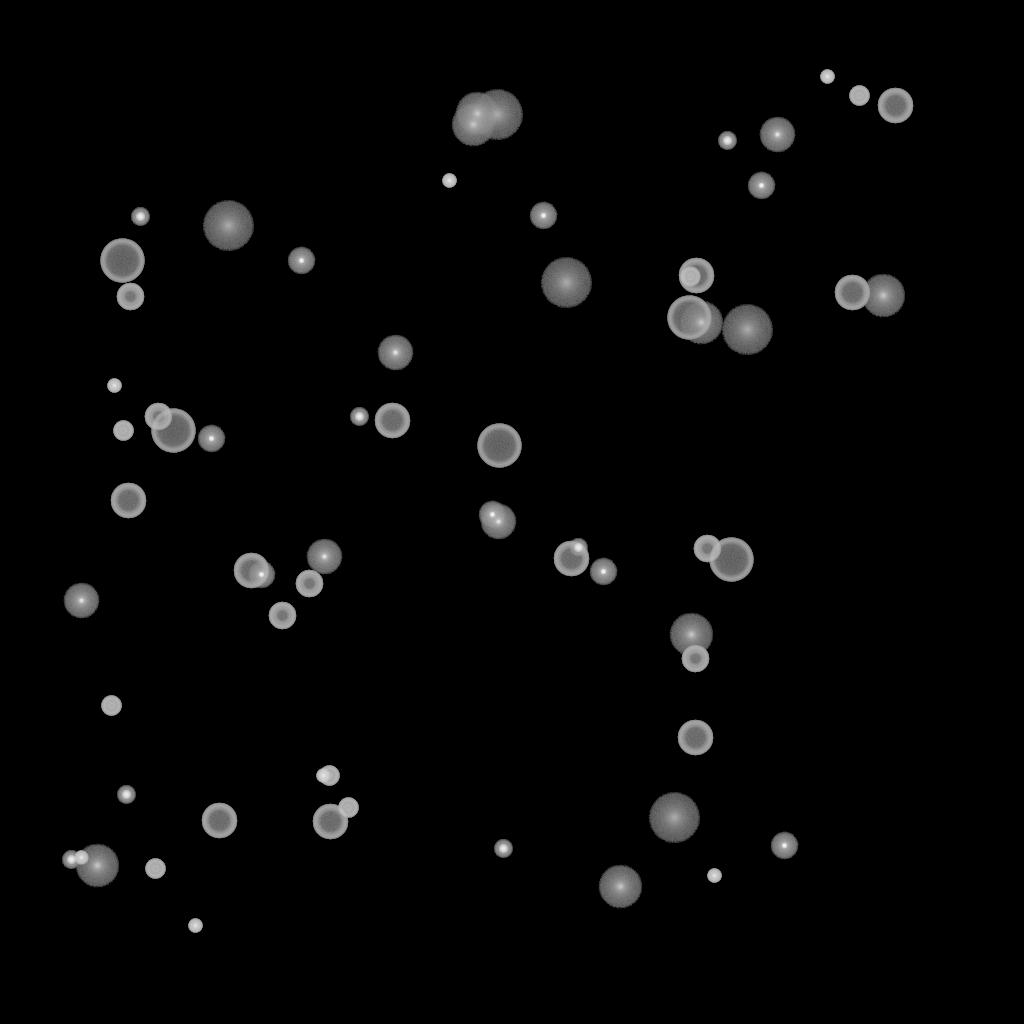depth:-10: (770, 832, 798, 860), (478, 501, 506, 529), (529, 202, 557, 230), (287, 247, 315, 275), (247, 561, 275, 589), (589, 558, 617, 586), (747, 172, 775, 200), (197, 425, 225, 453)
depth:-20: (62, 851, 80, 869), (494, 840, 512, 858), (718, 132, 736, 150), (117, 786, 135, 804), (569, 539, 587, 557), (350, 408, 368, 426), (131, 208, 149, 226)
depth:-30: (820, 70, 834, 84), (188, 919, 202, 933), (316, 769, 330, 783), (107, 379, 121, 393), (442, 174, 456, 188), (74, 851, 88, 865), (707, 869, 721, 883)
depth:-40: (849, 86, 869, 106), (101, 696, 121, 716), (145, 859, 165, 879), (319, 766, 339, 786), (113, 421, 133, 441), (680, 267, 700, 287), (338, 798, 358, 818)
depth:-50: (144, 403, 172, 431), (295, 570, 323, 598), (681, 645, 709, 673), (116, 283, 144, 311), (693, 535, 721, 563), (268, 602, 296, 630)
depth:-60: (877, 88, 913, 124), (374, 403, 410, 439), (834, 275, 870, 311), (233, 553, 269, 589), (201, 803, 237, 839), (677, 720, 713, 756), (110, 483, 146, 519), (553, 541, 589, 577), (312, 804, 348, 840), (678, 258, 714, 294)
depth:-70: (667, 296, 711, 340), (151, 409, 195, 453), (709, 538, 753, 582), (100, 239, 144, 283), (477, 424, 521, 468)
depth:0: (480, 504, 516, 540), (759, 117, 795, 153), (63, 583, 99, 619), (377, 335, 413, 371), (306, 539, 342, 575)
depth:10: (598, 865, 642, 909), (669, 613, 713, 657), (861, 274, 905, 318), (455, 92, 499, 136), (679, 301, 723, 345), (75, 844, 119, 888), (451, 103, 495, 147)
depth:20: (648, 793, 700, 843), (721, 305, 773, 355), (471, 90, 523, 140), (202, 201, 254, 251), (540, 258, 592, 308)
